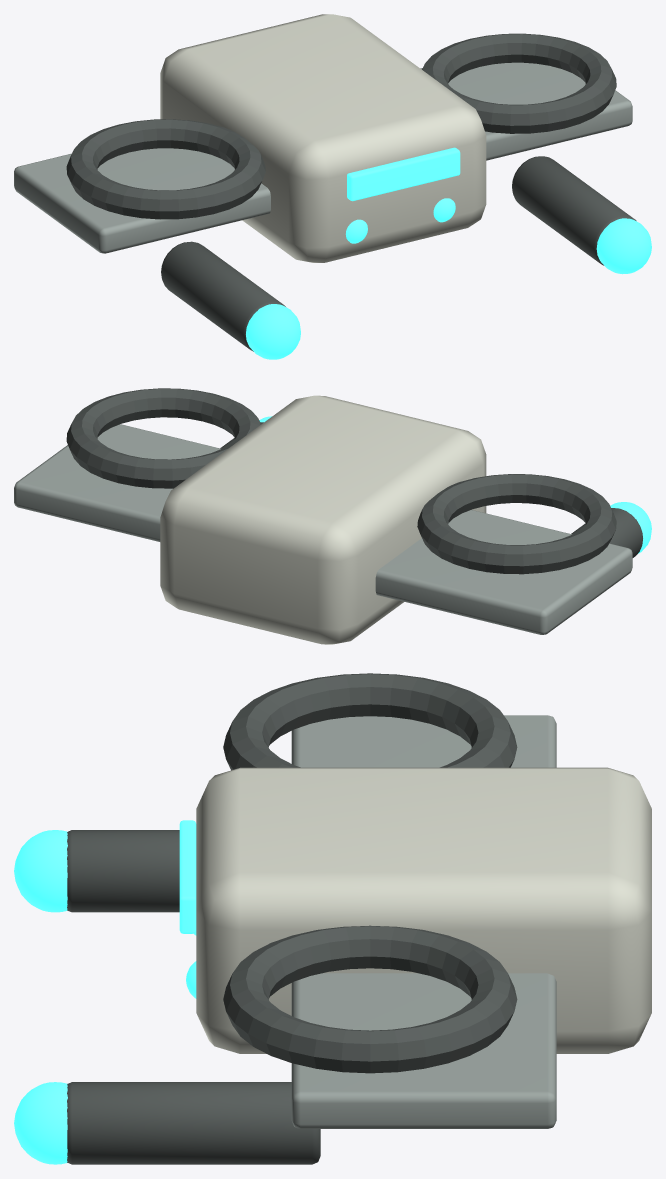
File: card_burst.glb
3 views of the same model, one above another, from view 1: azimuth 30°, elevation 25°; view 2: azimuth 150°, elevation 25°; view 3: azimuth 270°, elevation 25° (orthographic). The views are drawn at different scales.
Parts seen in each view (by area): view 1: card_burst; view 2: card_burst; view 3: card_burst.
Part boxes in pixels (x1,y1,x2,y2): card_burst: (14,14,651,359); card_burst: (14,388,651,644); card_burst: (14,673,651,1164).
Bounding box in the file's own units: 2.19 × 0.57 × 1.54.
